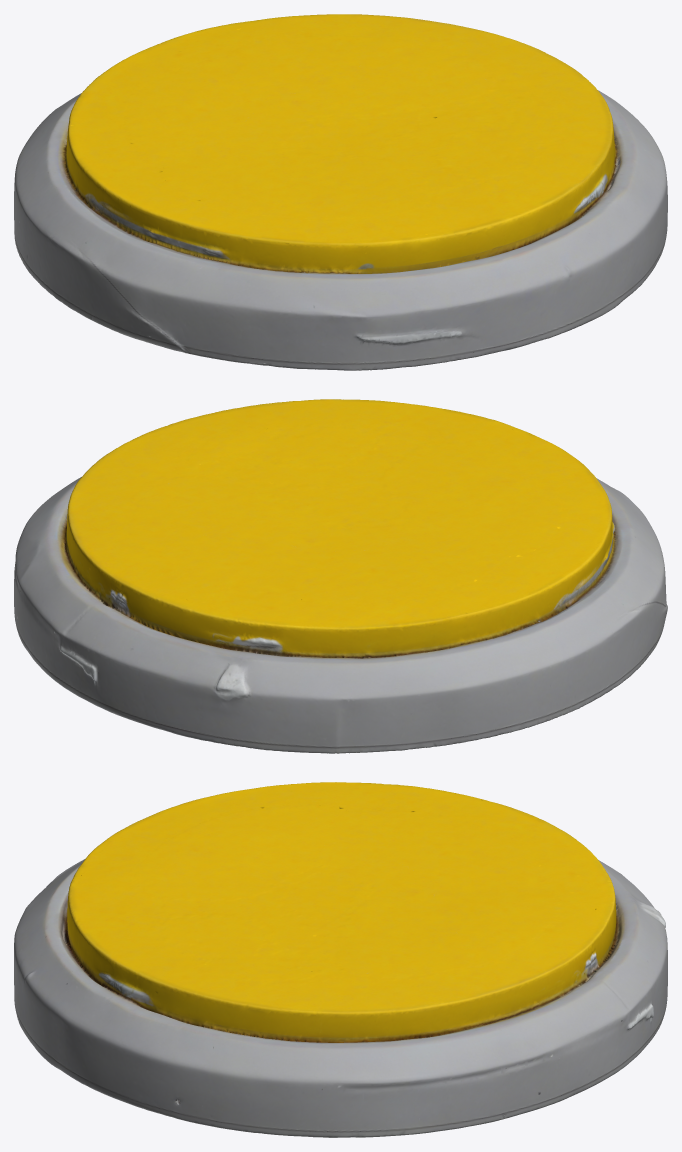
File: Meshy_AI_Yellow_Push_Button_0409064925_texture.glb
3 views of the same model, one above another, from view 1: azimuth 30°, elevation 25°; view 2: azimuth 150°, elevation 25°; view 3: azimuth 270°, elevation 25° (orthographic).
Bounding box in the file's own units: 2 × 0.4008 × 2.
1 material, 1 textured.
